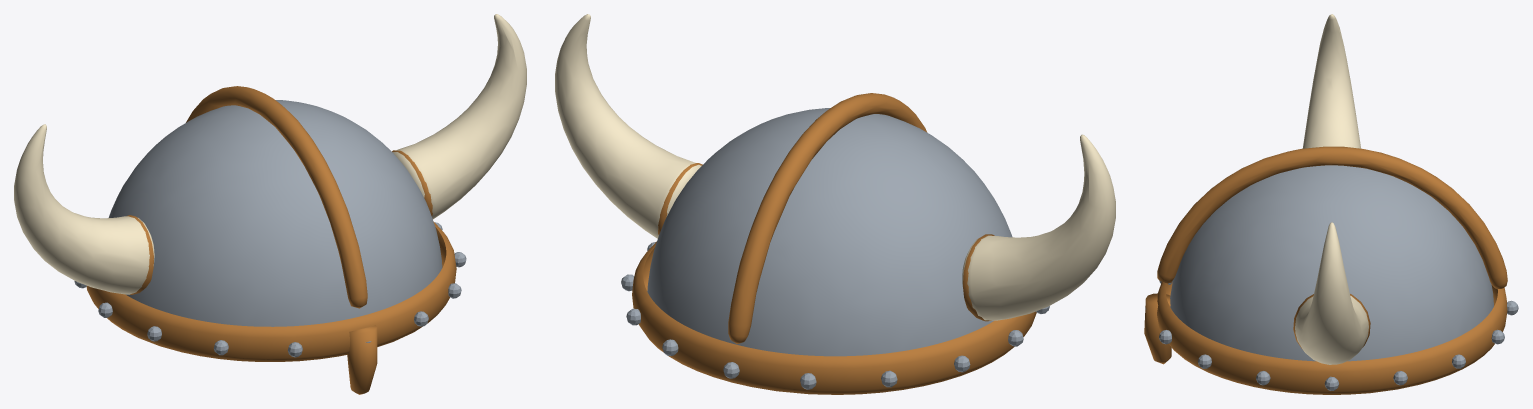
The model's file is vikingo.glb.
3 renders of one model, left to right at view 1: azimuth 30°, elevation 25°; view 2: azimuth 150°, elevation 25°; view 3: azimuth 270°, elevation 25°, orthographic. The views are drawn at different scales.
Parts seen in each view (by area): view 1: vikingo; view 2: vikingo; view 3: vikingo.
Part boxes in pixels (x1=…): vikingo: x1=14, y1=14, x2=526, y2=394; vikingo: x1=555, y1=14, x2=1115, y2=394; vikingo: x1=1144, y1=14, x2=1518, y2=394.
Bounding box in the file's own units: 1.82 × 0.8893 × 1.23.
